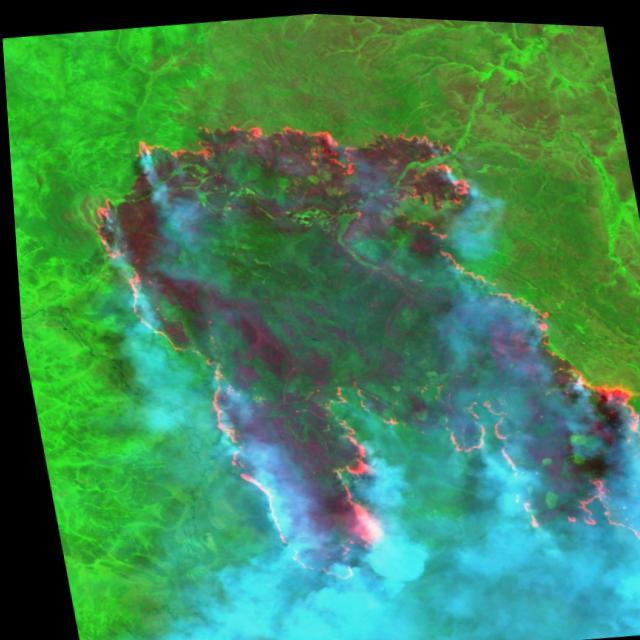fire: (54, 67, 640, 620)
